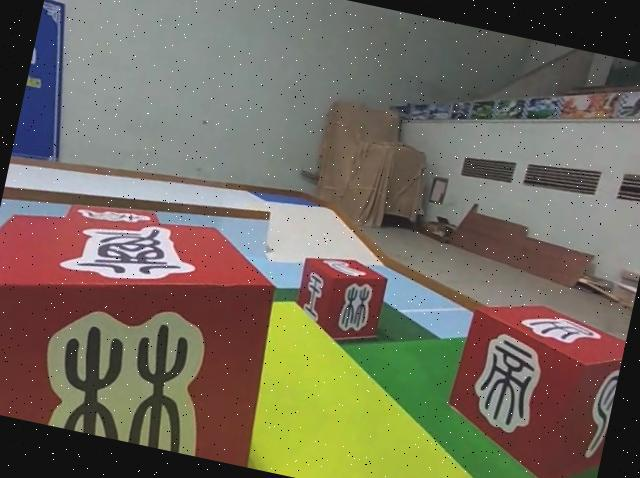R2 Fake: (0, 177, 297, 468), (438, 288, 629, 478), (290, 249, 388, 348)
